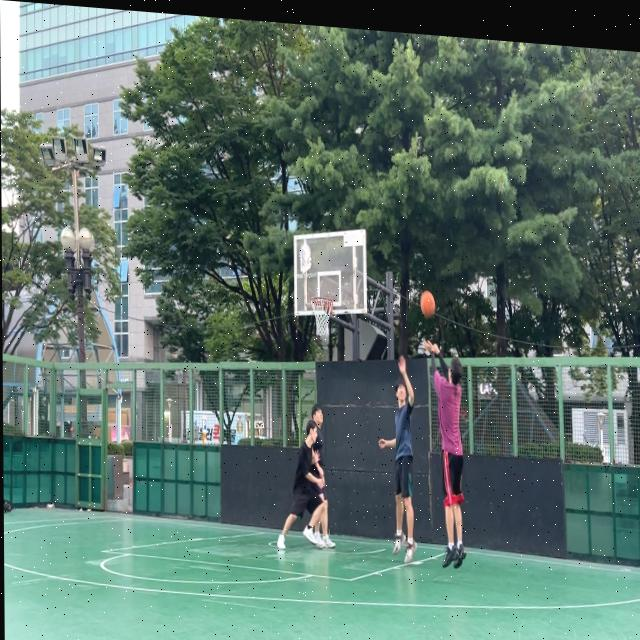basketball: (420, 289, 435, 320)
hoop: (311, 295, 333, 339)
